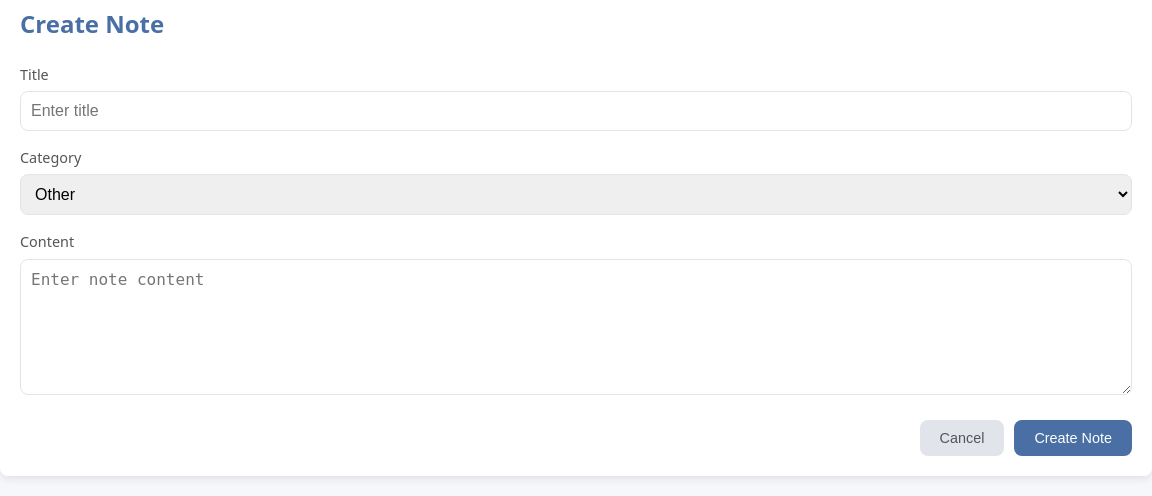
Test: NoteForm Component › resets the form when canceling a new note
The image size is (1152, 496).
Type "New Note" into the field with placeholder "Enter title".
click(576, 111); type("New Note")  # box [20,91,1132,131]
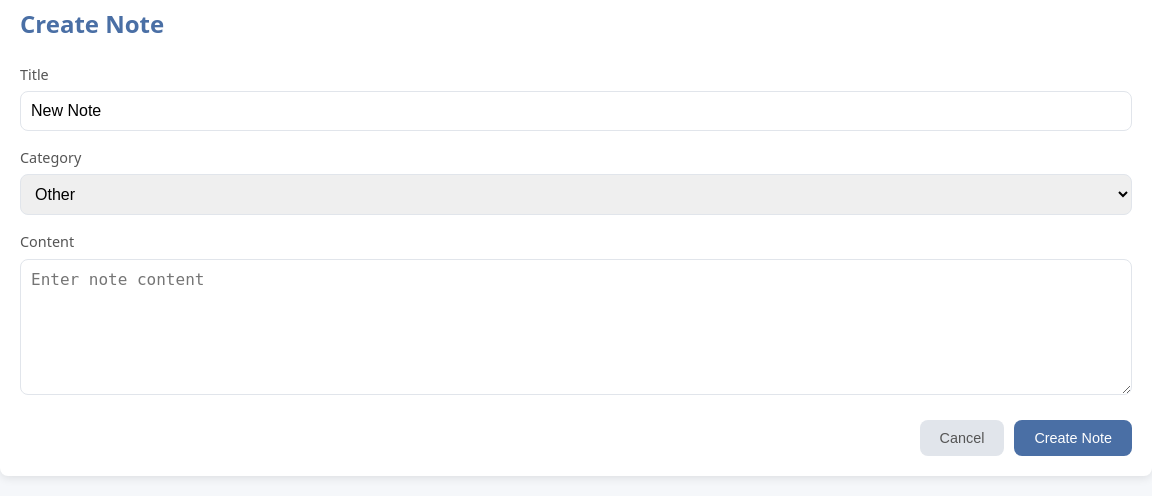
Type "This is a new note." into the text box with placeholder "Enter note content".
click(576, 326); type("This is a new note.")  # box [20,258,1132,394]
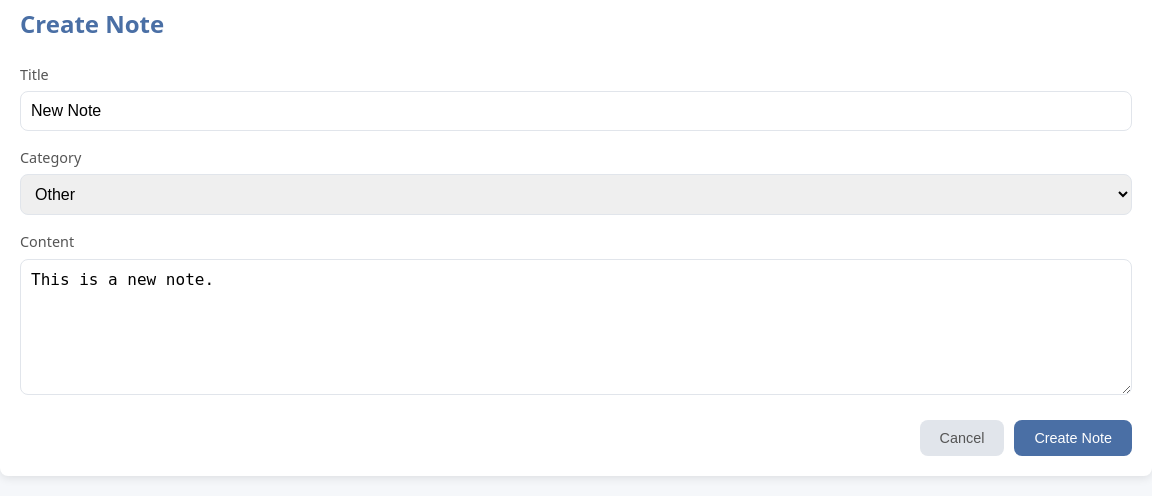
Click the button "Cancel".
click(962, 438)  # box [920,420,1004,456]
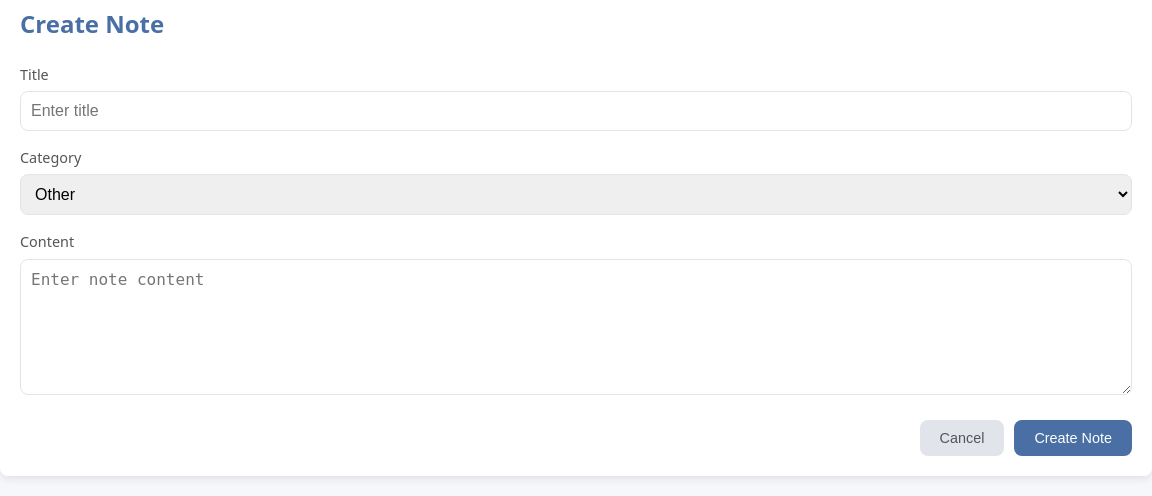
Expected: the dropdown labelled "Category" shows "Other", [20,174,1132,216]
Now the field with placeholder "Enter title" is empty, box [20,91,1132,131]
Now the text box with placeholder "Enter note content" is empty, box [20,258,1132,394]
